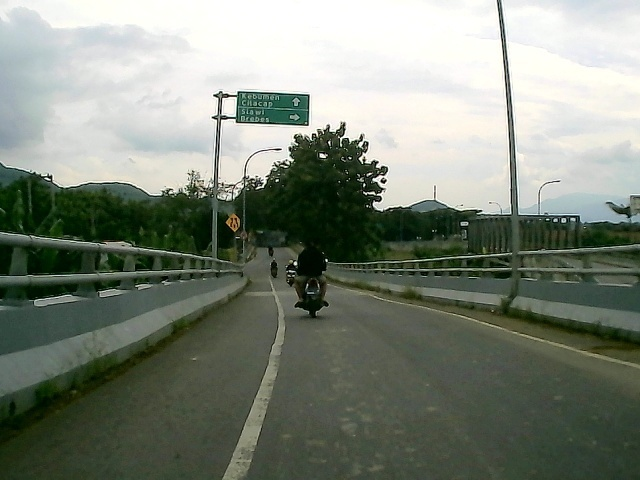Akhir bangunan pemisah satu arah: (223, 211, 244, 234)
